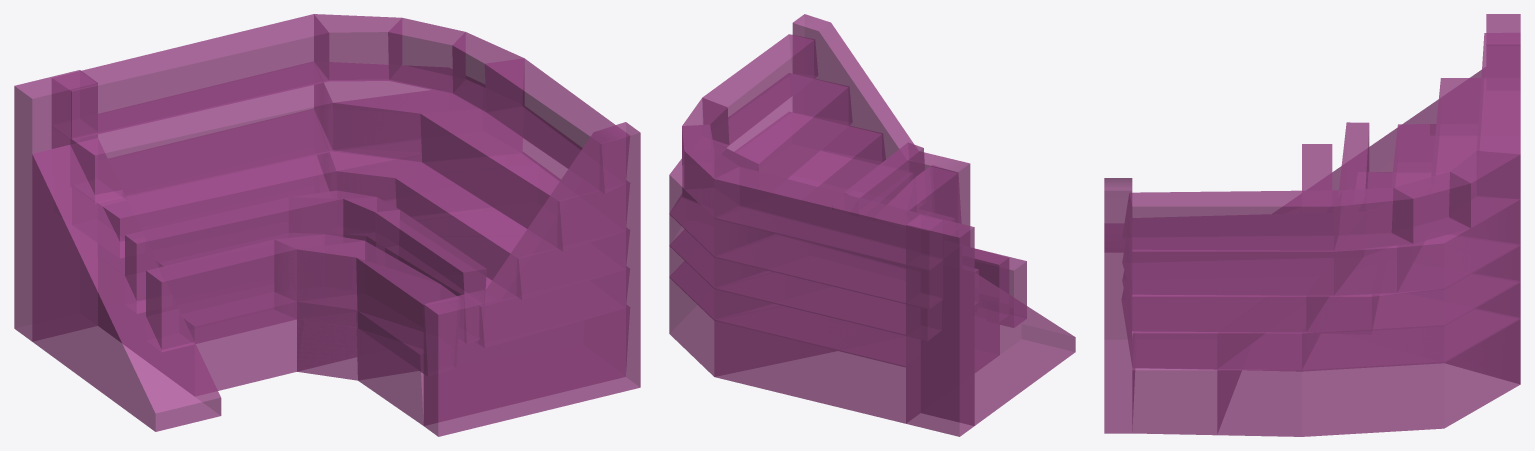
Rendered from SM_Prop_Theater_Corner_01_Collision.fbx.
3 renders of one model, left to right at view 1: azimuth 30°, elevation 25°; view 2: azimuth 150°, elevation 25°; view 3: azimuth 270°, elevation 25°, orthographic. The views are drawn at different scales.
Parts seen in each view (by area): view 1: SM_Prop_Theater_Corner_01_Collision; view 2: SM_Prop_Theater_Corner_01_Collision; view 3: SM_Prop_Theater_Corner_01_Collision.
Part boxes in pixels (box(x1,y1,x2,y2)): SM_Prop_Theater_Corner_01_Collision: box(14, 14, 640, 436); SM_Prop_Theater_Corner_01_Collision: box(669, 14, 1075, 436); SM_Prop_Theater_Corner_01_Collision: box(1104, 14, 1520, 436).
Bounding box in the file's own units: 516 × 307 × 474.
